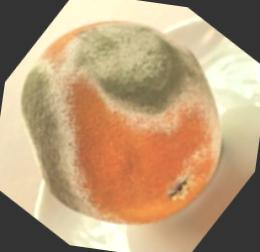Orange Rotten: (0, 2, 253, 246)
